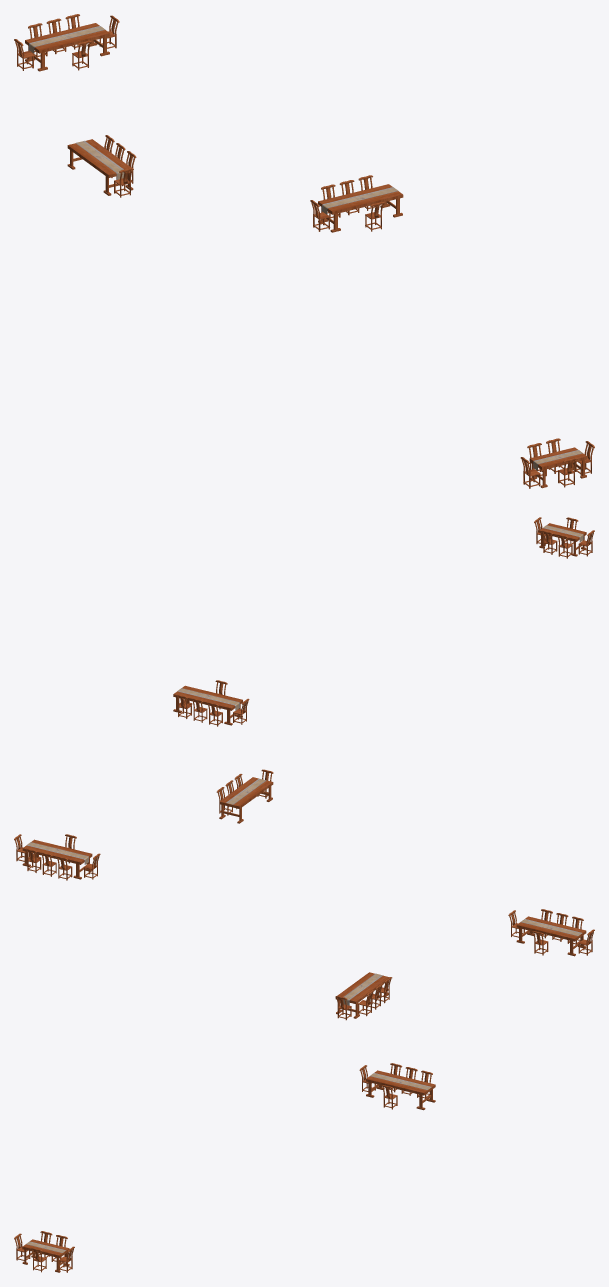
File: desk 3.glb
3 renders of one model, top to bottom at view 1: azimuth 30°, elevation 25°; view 2: azimuth 150°, elevation 25°; view 3: azimuth 330°, elevation 25°, orthographic. The views are drawn at different scales.
Parts seen in each view (by area): view 1: 立方体.514, 立方体.498, 立方体.531, 立方体.501; view 2: 立方体.531, 立方体.514, 立方体.498, 立方体.501; view 3: 立方体.498, 立方体.514, 立方体.531, 立方体.501.
Part boxes in pixels (x1,y1,x2,y2): 立方体.514: (25, 23, 110, 71); 立方体.498: (318, 184, 403, 232); 立方体.531: (67, 139, 133, 195); 立方体.501: (529, 447, 587, 488); 立方体.531: (219, 777, 273, 823); 立方体.514: (22, 839, 92, 879); 立方体.498: (173, 685, 242, 725); 立方体.501: (539, 523, 586, 556); 立方体.498: (366, 1070, 435, 1110); 立方体.514: (516, 916, 586, 956); 立方体.531: (335, 972, 389, 1018); 立方体.501: (22, 1239, 69, 1272).
Size of the model in its own units: 3.65 by 0.4846 by 18.24.
2 materials, 2 textured.
